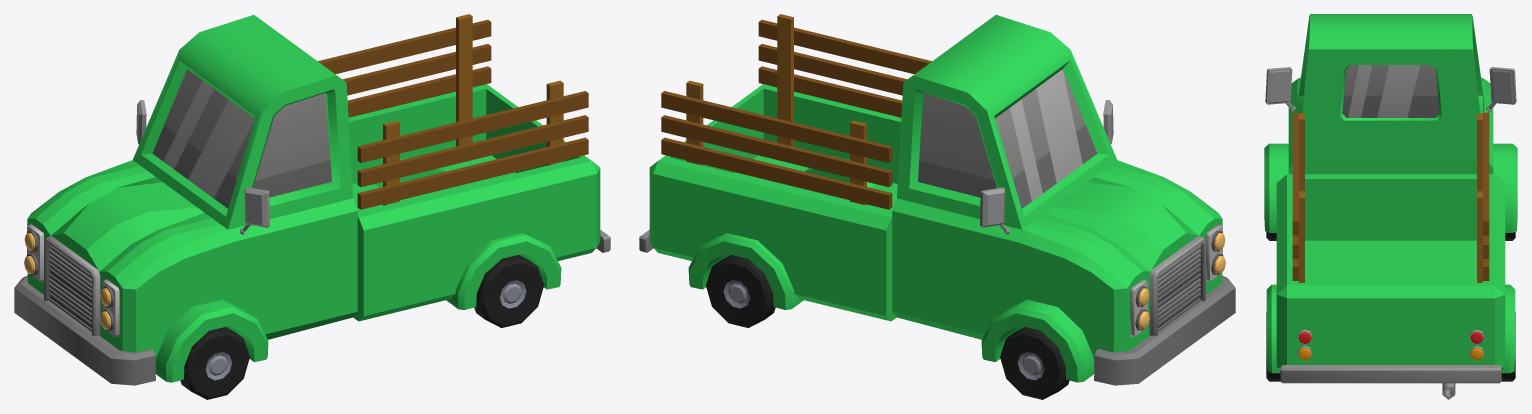
The model's file is Car_12_M.gltf.
3 views of the same model, side by side, from view 1: azimuth 30°, elevation 25°; view 2: azimuth 150°, elevation 25°; view 3: azimuth 270°, elevation 25° (orthographic). The views are drawn at different scales.
Parts seen in each view (by area): view 1: Car_12_M, RL, FL; view 2: Car_12_M, RR, FR; view 3: Car_12_M.
Part boxes in pixels (left/top/right/bottom): Car_12_M: left=14, top=14, right=610, bottom=385; RL: left=474, top=255, right=544, bottom=327; FL: left=180, top=327, right=249, bottom=399; Car_12_M: left=639, top=14, right=1235, bottom=385; RR: left=705, top=255, right=775, bottom=327; FR: left=1000, top=327, right=1069, bottom=399; Car_12_M: left=1264, top=14, right=1517, bottom=399.
Size of the model in its own units: 3.82 by 2.01 by 1.73.
Materials: 4 (4 with a texture image).
